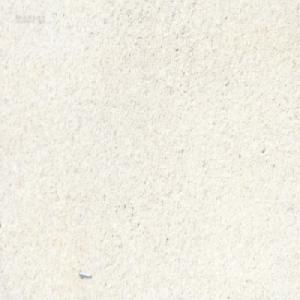Nail: (77, 269, 92, 279)
